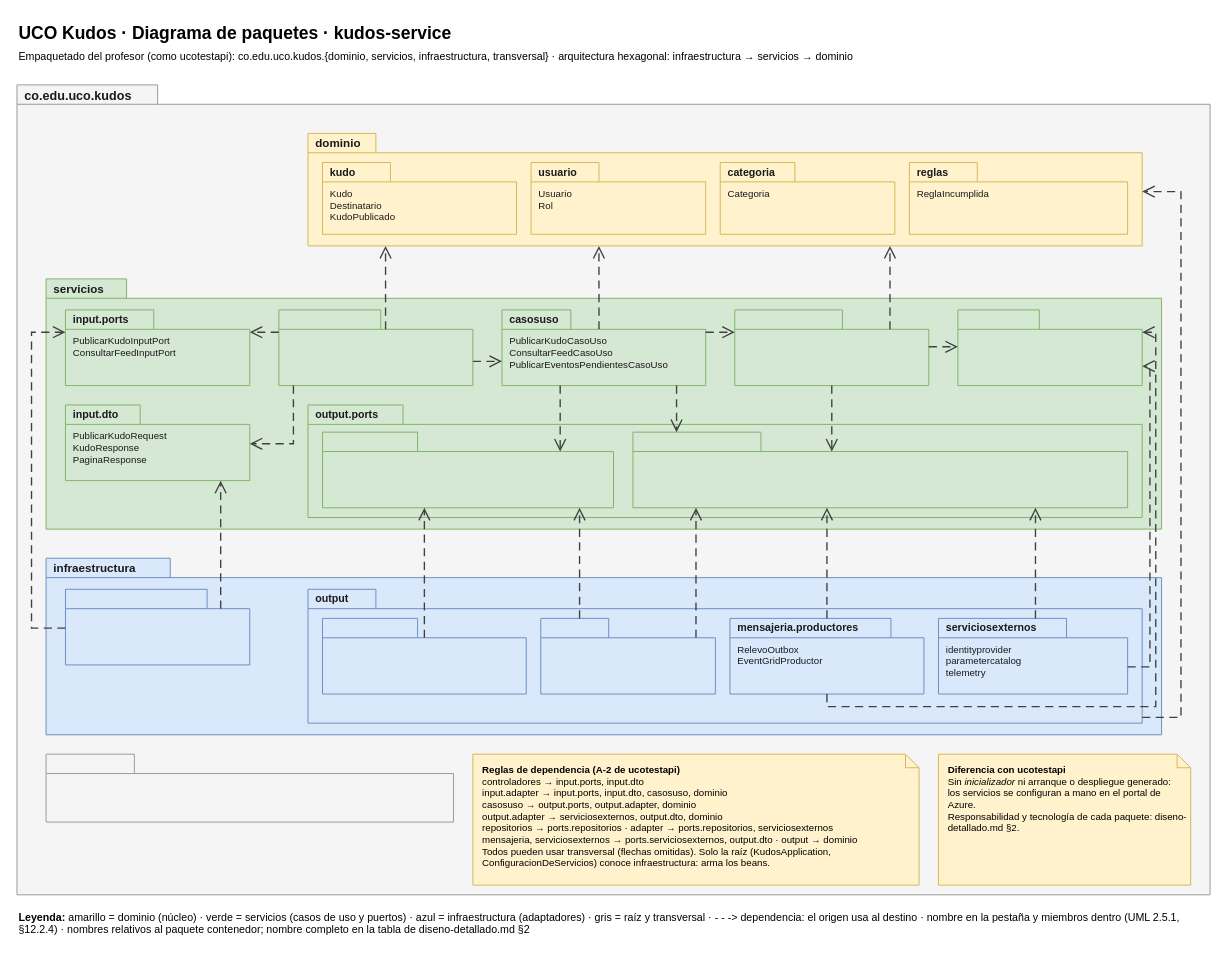
Image size: 1227x955. Some labels were removed from this diagram. The centre of each missing label's shape, as x and y in pixels:
adapter UnidadDeTrabajoAdapter RelojUtc GeneradorUuidV7: pixel 627 655
input.adapter PublicarKudoInputAdapter ConsultarFeedInputAdapter: pixel 375 347
input.controladores KudoControlador ManejadorDeErrores SeguridadHttp: pixel 157 626
output.adapter EventoKudoPublicadoAdapter: pixel 831 347
output.dto EventoKudoPublicadoDTO RegistroAuditoriaDTO: pixel 1049 347
repositorios estructurados noestructurados semiestructurados: pixel 424 655
repositorios KudoRepositorio AlmacenAdjuntos UnidadDeTrabajo: pixel 468 469
serviciosexternos PublicadorDeEventos CatalogoDeParametros Reloj: pixel 880 469
transversal UuidV7 Pagina: pixel 249 787
